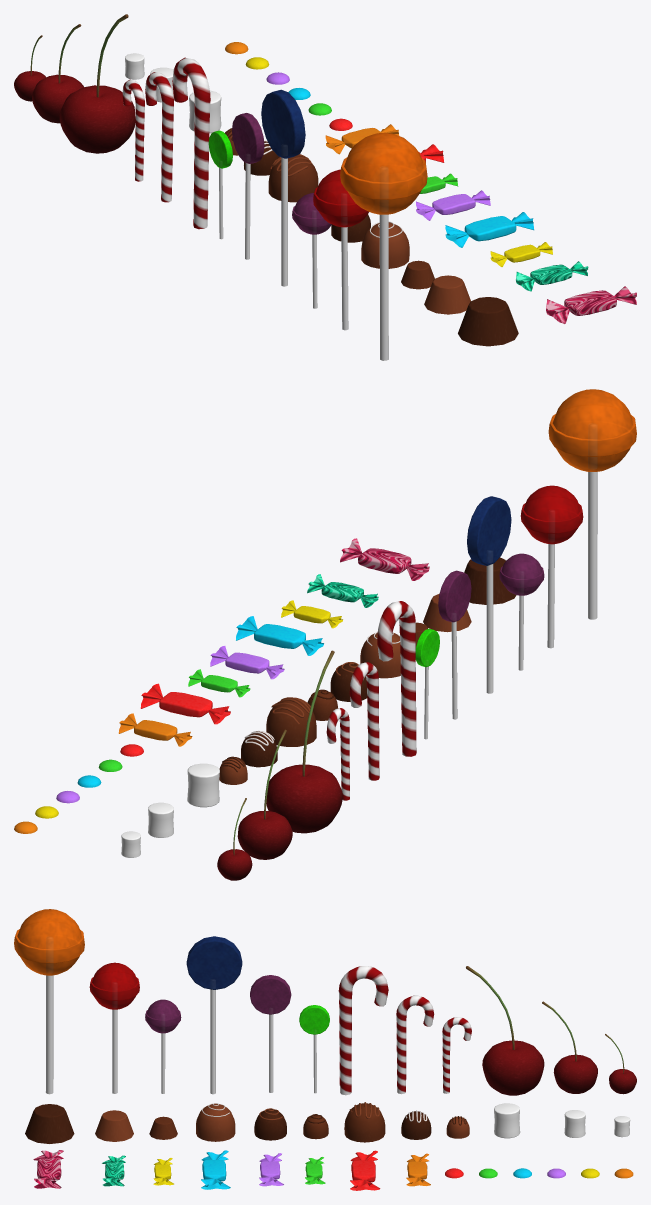
Rendered from props_-_candies__diorama.glb.
The picture shows the model from 3 angles, top to bottom: view 1: azimuth 30°, elevation 25°; view 2: azimuth 150°, elevation 25°; view 3: azimuth 270°, elevation 25°; orthographic projection. The views are drawn at different scales.
Visible parts, largest first — view 1: Diorama.017, Diorama.005, Diorama.008, Diorama.006, Diorama.015, Diorama.018, Diorama.021, Diorama.014, Diorama.003, Diorama.020, Diorama.024, Diorama.007 (+16 smaller); view 2: Diorama.017, Diorama.005, Diorama.015, Diorama.008, Diorama.006, Diorama.003, Diorama.020, Diorama.021, Diorama.014, Diorama.033, Diorama.002, Diorama.024 (+18 smaller); view 3: Diorama.017, Diorama.005, Diorama.008, Diorama.006, Diorama.015, Diorama.014, Diorama.003, Diorama.018, Diorama.021, Diorama.020, Diorama.007, Diorama.033 (+20 smaller).
Part boxes in pixels (x1=…): Diorama.017: x1=340, y1=132, x2=427, y2=360; Diorama.005: x1=59, y1=14, x2=135, y2=153; Diorama.008: x1=261, y1=89, x2=305, y2=286; Diorama.006: x1=172, y1=57, x2=210, y2=229; Diorama.015: x1=313, y1=169, x2=368, y2=330; Diorama.018: x1=458, y1=297, x2=518, y2=346; Diorama.021: x1=145, y1=72, x2=173, y2=202; Diorama.014: x1=232, y1=113, x2=264, y2=259; Diorama.003: x1=32, y1=24, x2=83, y2=123; Diorama.020: x1=268, y1=154, x2=318, y2=202; Diorama.024: x1=546, y1=286, x2=636, y2=323; Diorama.007: x1=361, y1=221, x2=409, y2=268; Diorama.017: x1=548, y1=389, x2=636, y2=619; Diorama.005: x1=266, y1=650, x2=342, y2=833; Diorama.015: x1=520, y1=485, x2=583, y2=648; Diorama.008: x1=467, y1=496, x2=511, y2=693; Diorama.006: x1=377, y1=601, x2=416, y2=756; Diorama.003: x1=237, y1=729, x2=292, y2=859; Diorama.020: x1=266, y1=697, x2=316, y2=746; Diorama.021: x1=349, y1=662, x2=379, y2=780; Diorama.014: x1=438, y1=570, x2=471, y2=719; Diorama.033: x1=499, y1=553, x2=544, y2=670; Diorama.002: x1=140, y1=683, x2=230, y2=724; Diorama.024: x1=340, y1=538, x2=429, y2=580; Diorama.017: x1=14, y1=909, x2=84, y2=1094; Diorama.005: x1=466, y1=966, x2=544, y2=1095; Diorama.008: x1=186, y1=936, x2=242, y2=1094; Diorama.006: x1=338, y1=966, x2=388, y2=1095; Diorama.015: x1=89, y1=962, x2=139, y2=1093; Diorama.014: x1=250, y1=975, x2=291, y2=1092; Diorama.003: x1=542, y1=1001, x2=597, y2=1093; Diorama.018: x1=25, y1=1104, x2=74, y2=1143; Diorama.021: x1=396, y1=995, x2=434, y2=1094; Diorama.020: x1=344, y1=1102, x2=385, y2=1142; Diorama.007: x1=196, y1=1103, x2=235, y2=1141; Diorama.033: x1=145, y1=999, x2=181, y2=1093.
Size of the model in its own units: 8.33 by 6.19 by 19.31.
Materials: 1 (1 with a texture image).
